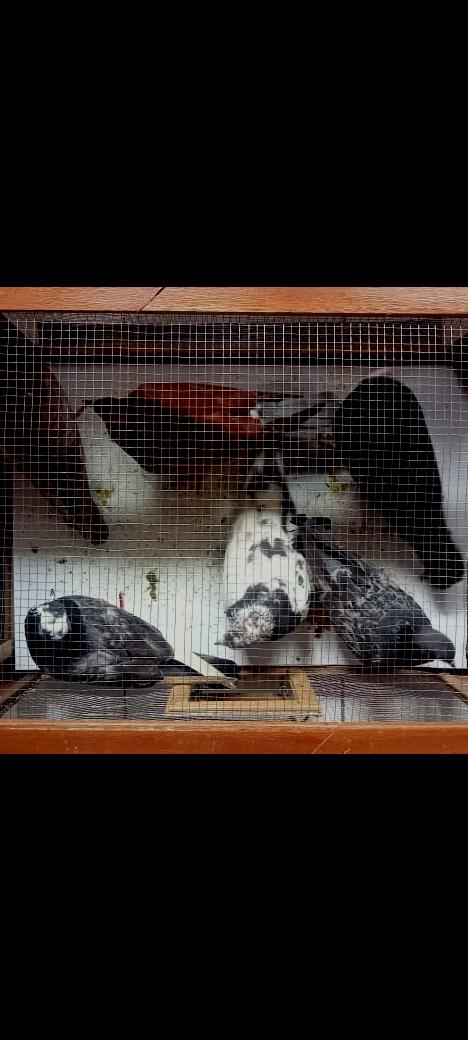Merpati: (336, 375, 465, 585), (80, 379, 338, 475), (300, 514, 454, 666), (219, 405, 314, 648), (0, 348, 108, 545), (25, 595, 239, 691)
